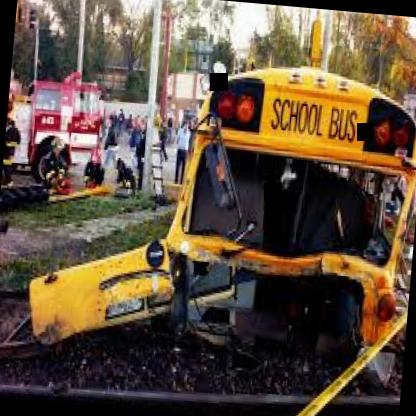accident: (8, 39, 416, 397)
